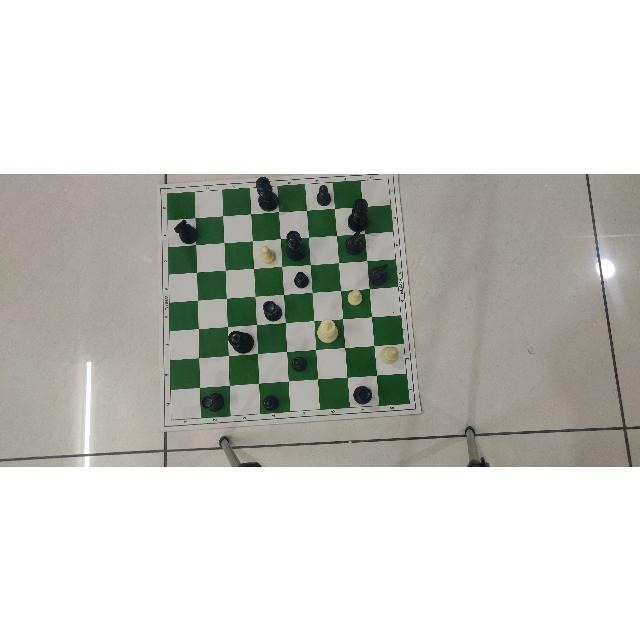black-king: (254, 175, 279, 211), (347, 196, 368, 231)
black-knight: (173, 218, 201, 244), (368, 262, 389, 284), (345, 232, 365, 254)
black-pawn: (314, 183, 331, 205), (263, 394, 279, 410), (294, 270, 309, 287), (292, 355, 308, 370)
black-queen: (285, 229, 308, 261), (227, 329, 255, 353)
black-rook: (200, 392, 225, 412), (353, 384, 373, 404), (262, 300, 282, 320)
white-bishop: (380, 346, 400, 364)
white-king: (316, 317, 339, 342)
white-pawn: (347, 287, 365, 307), (258, 244, 276, 264)
